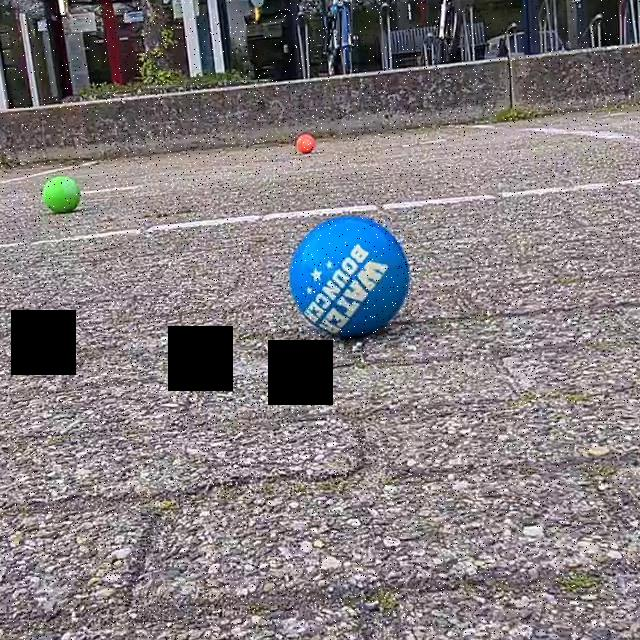ball: (40, 174, 83, 217), (292, 129, 320, 157)
